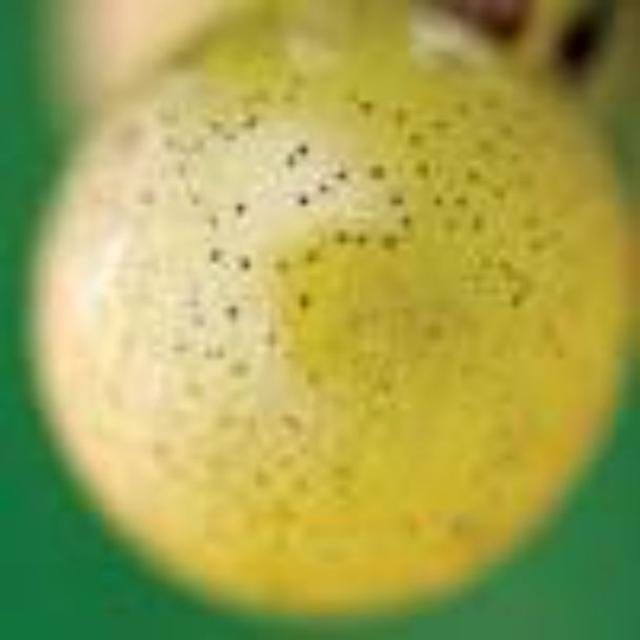Rotten Apple: (59, 24, 620, 616)
